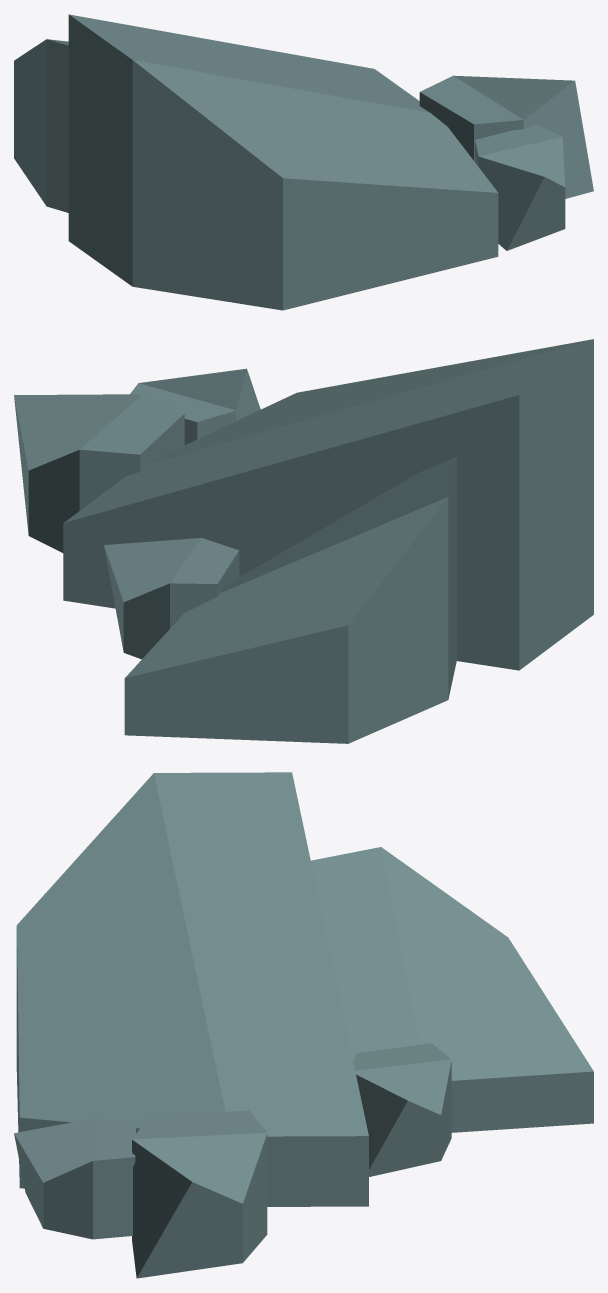
File: brigesRock_Type5_01_mesh_001.fbx
The picture shows the model from 3 angles, top to bottom: view 1: azimuth 30°, elevation 25°; view 2: azimuth 150°, elevation 25°; view 3: azimuth 270°, elevation 25°; orthographic projection. The views are drawn at different scales.
Parts seen in each view (by area): view 1: Rock Type5 01 mesh.001; view 2: Rock Type5 01 mesh.001; view 3: Rock Type5 01 mesh.001.
Part boxes in pixels (x1=…): Rock Type5 01 mesh.001: x1=14, y1=14, x2=593, y2=310; Rock Type5 01 mesh.001: x1=14, y1=339, x2=593, y2=743; Rock Type5 01 mesh.001: x1=14, y1=772, x2=593, y2=1278.
Size of the model in its own units: 180 by 88.12 by 177.
